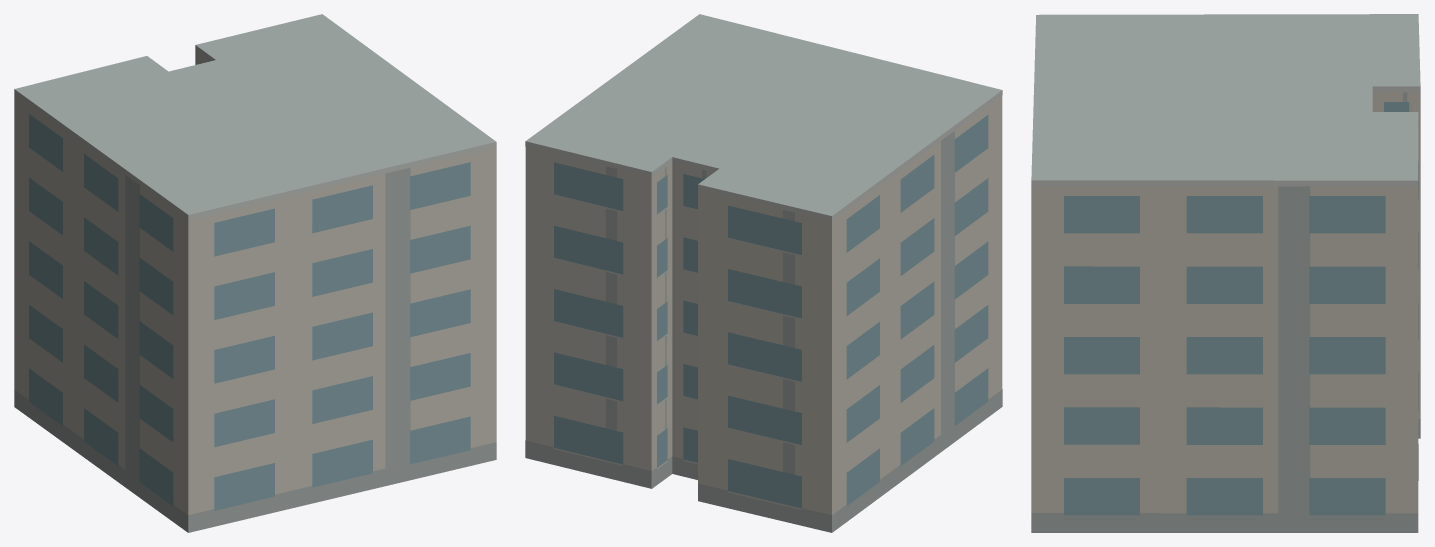
File: survey-upis-32917658.glb
3 renders of one model, left to right at view 1: azimuth 30°, elevation 25°; view 2: azimuth 150°, elevation 25°; view 3: azimuth 270°, elevation 25°, orthographic. The views are drawn at different scales.
Visible parts, largest first — view 1: survey-upis-32917658.tmp; view 2: survey-upis-32917658.tmp; view 3: survey-upis-32917658.tmp.
Boxes of the visible parts, x1,y1,x2,y2 form: survey-upis-32917658.tmp: (14,14,496,532); survey-upis-32917658.tmp: (525,14,1002,532); survey-upis-32917658.tmp: (1031,14,1420,532).
Bounding box in the file's own units: 14.84 × 14.63 × 14.66.
